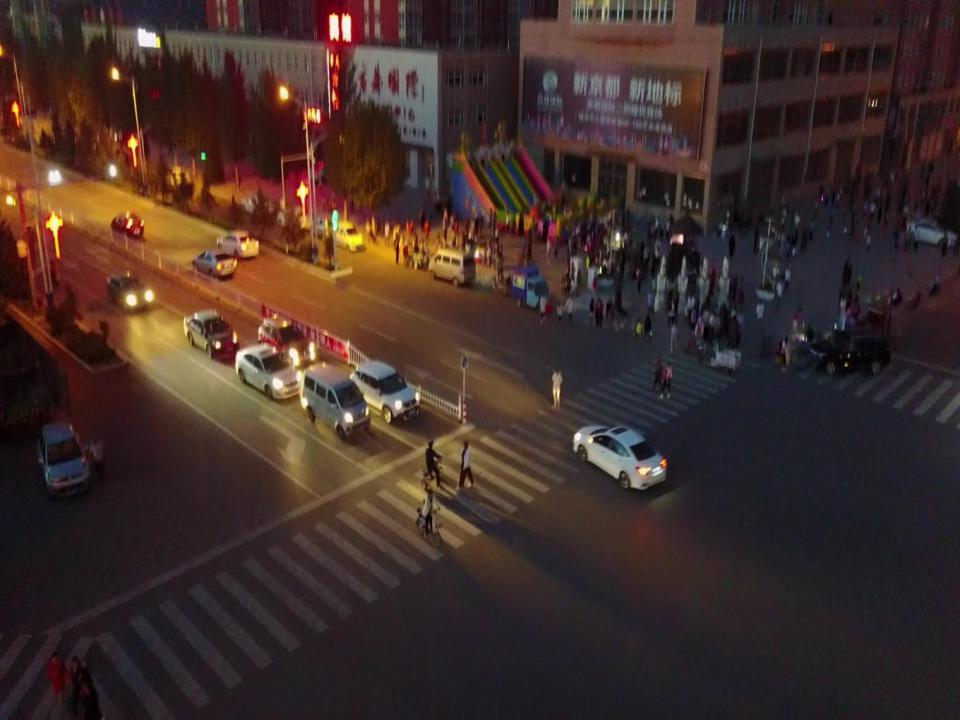car: (573, 424, 667, 489), (348, 358, 421, 426), (36, 419, 92, 499), (808, 328, 892, 378), (235, 343, 301, 400), (257, 314, 315, 369), (183, 307, 239, 358), (104, 275, 154, 311), (191, 248, 237, 283), (217, 231, 259, 260), (332, 218, 364, 254), (109, 211, 144, 241), (276, 203, 311, 231), (240, 191, 274, 217), (164, 164, 194, 193), (550, 366, 563, 410)
van: (302, 360, 371, 442), (427, 248, 477, 288), (308, 214, 334, 242)
